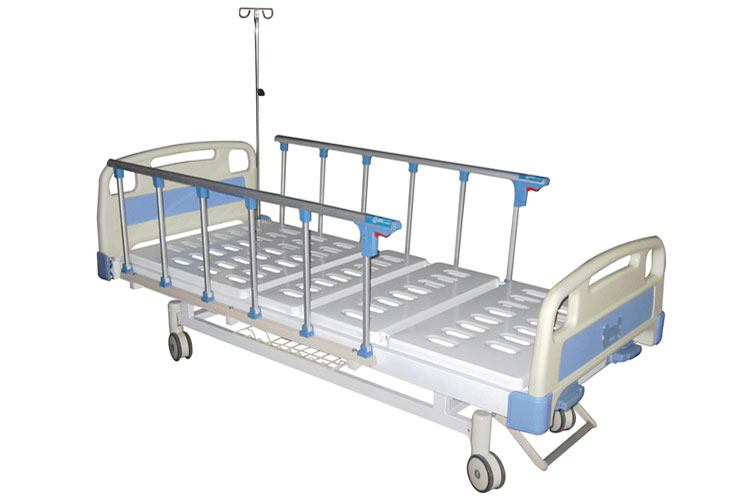trolley_bed: (92, 4, 669, 493)
